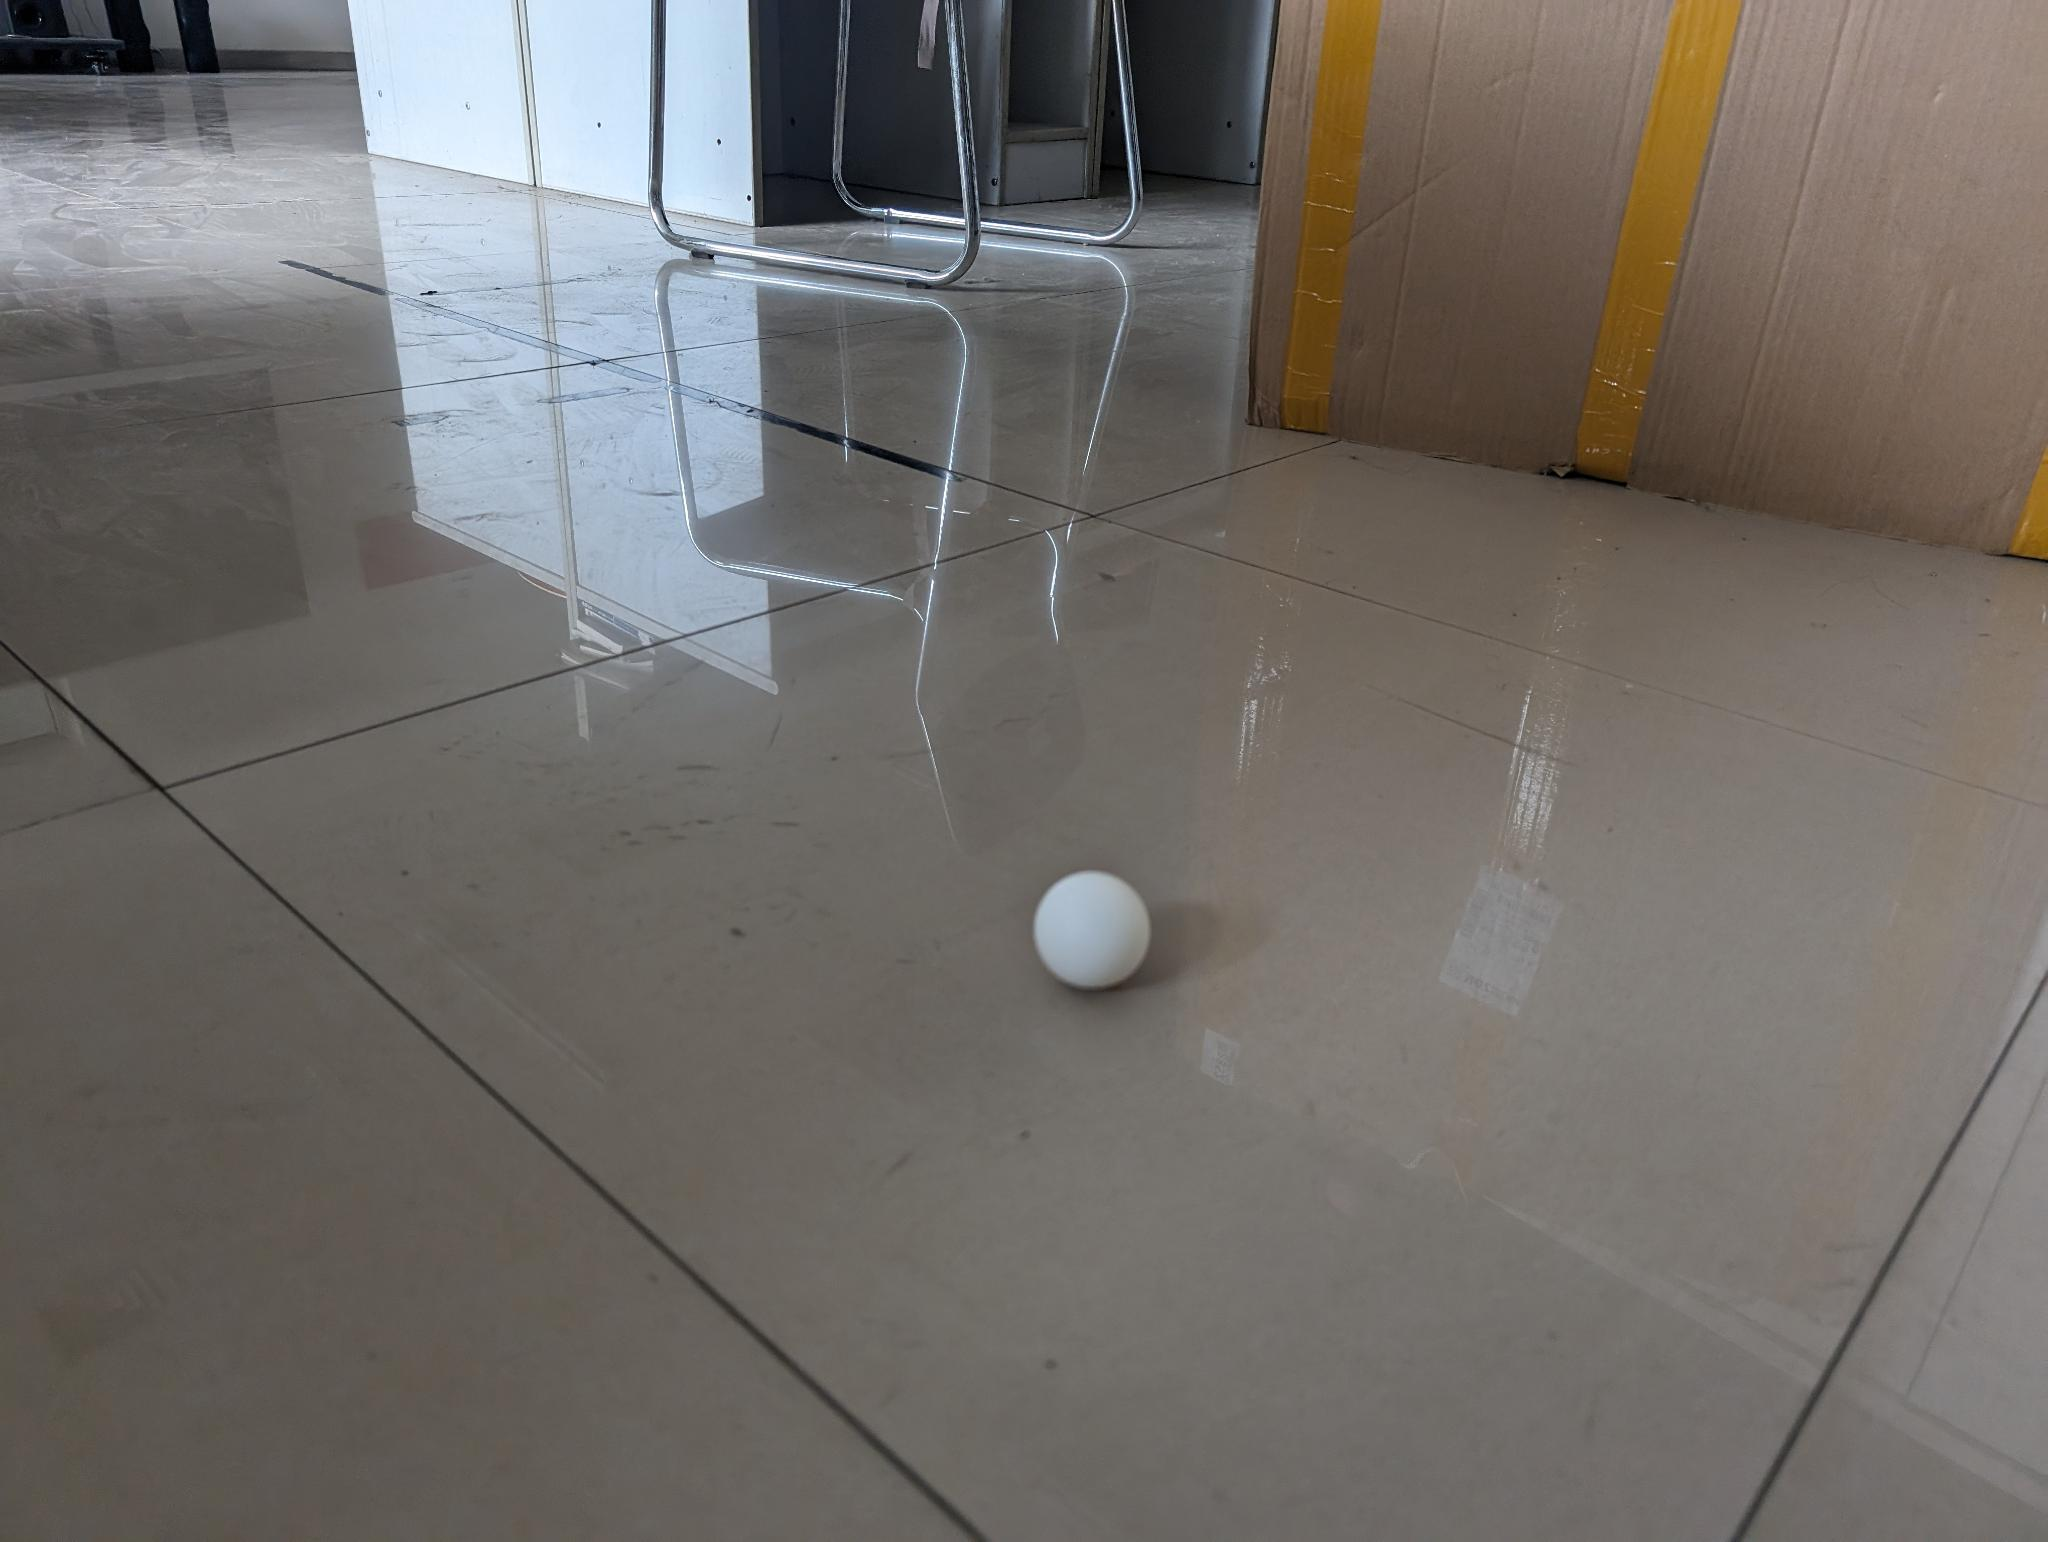ball: (1023, 860, 1154, 1001)
